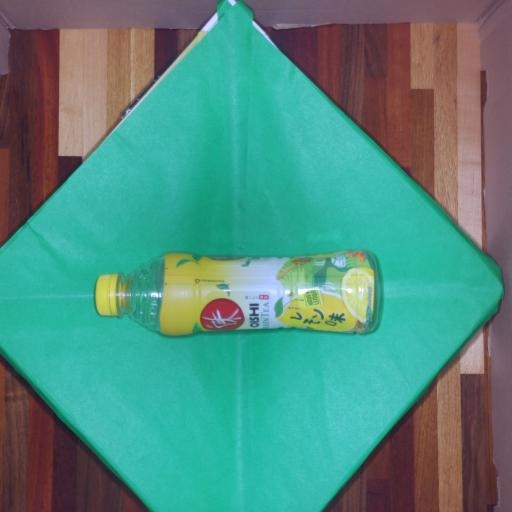bottle: (95, 251, 378, 335)
